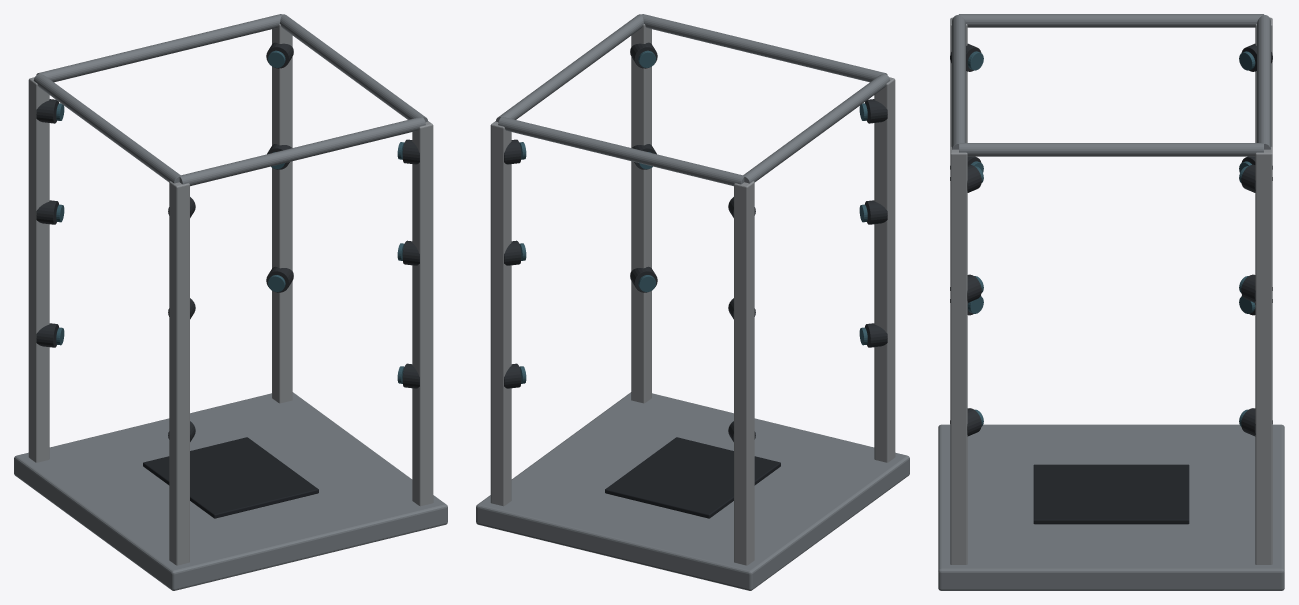
The model's file is BL_PredictiveSensorFrame.fbx.
3 renders of one model, left to right at view 1: azimuth 30°, elevation 25°; view 2: azimuth 150°, elevation 25°; view 3: azimuth 270°, elevation 25°, orthographic. The views are drawn at different scales.
Parts seen in each view (by area): view 1: BL_PredictiveSensorFrame_LOD0; view 2: BL_PredictiveSensorFrame_LOD0; view 3: BL_PredictiveSensorFrame_LOD0.
Part boxes in pixels (x1,y1,x2,y2): BL_PredictiveSensorFrame_LOD0: (14,14,447,590); BL_PredictiveSensorFrame_LOD0: (476,14,909,590); BL_PredictiveSensorFrame_LOD0: (938,14,1284,590).
Size of what is drawn, in the model's own units: 200 by 280 by 200.
